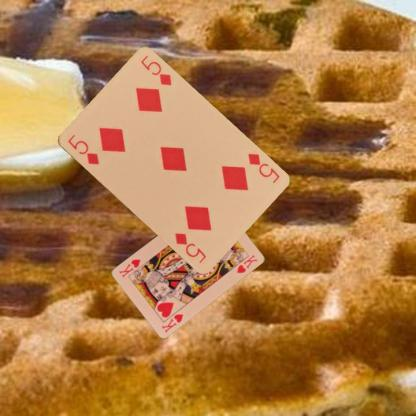5d: (244, 150, 281, 185), (65, 132, 100, 166)
Kh: (159, 311, 185, 334)
